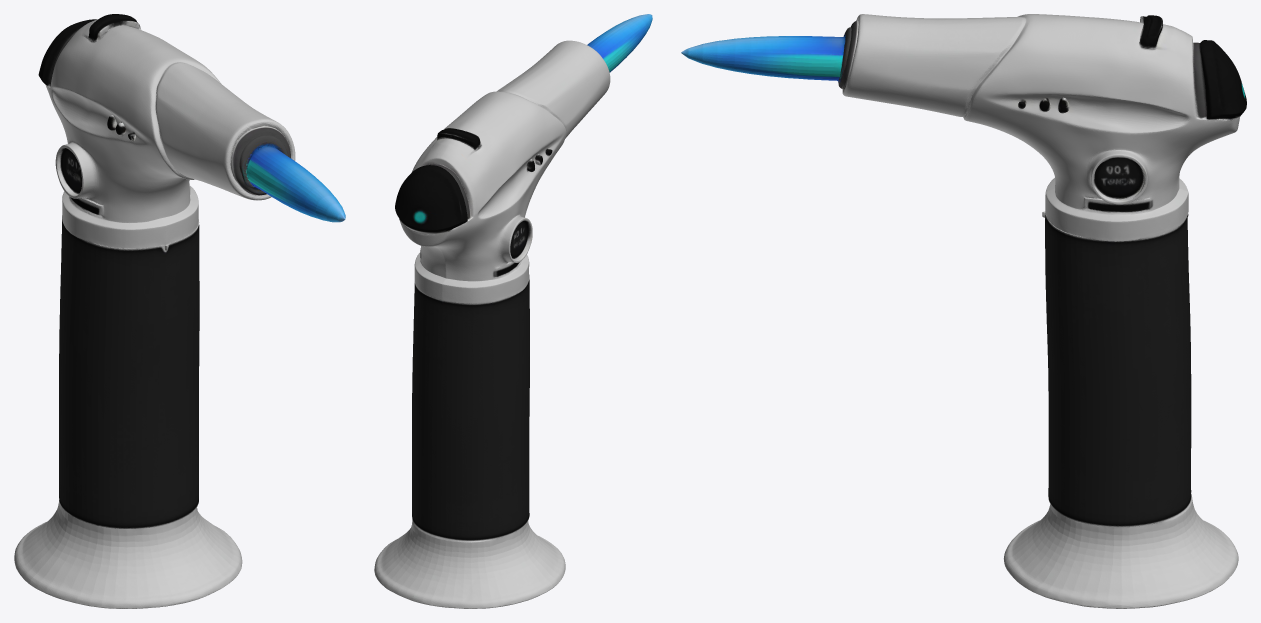
The model's file is torch.glb.
3 renders of one model, left to right at view 1: azimuth 30°, elevation 25°; view 2: azimuth 150°, elevation 25°; view 3: azimuth 270°, elevation 25°, orthographic. The views are drawn at different scales.
Visible parts, largest first — view 1: tripo_node_51f121f8-0bcc-45a3-a9fc-4004cef546ad; view 2: tripo_node_51f121f8-0bcc-45a3-a9fc-4004cef546ad; view 3: tripo_node_51f121f8-0bcc-45a3-a9fc-4004cef546ad.
Part boxes in pixels (x1,y1,x2,y2): tripo_node_51f121f8-0bcc-45a3-a9fc-4004cef546ad: (14, 14, 345, 608); tripo_node_51f121f8-0bcc-45a3-a9fc-4004cef546ad: (374, 14, 652, 608); tripo_node_51f121f8-0bcc-45a3-a9fc-4004cef546ad: (681, 14, 1246, 608).
Size of the model in its own units: 0.3848 by 1 by 0.9407.
1 material, 1 textured.
